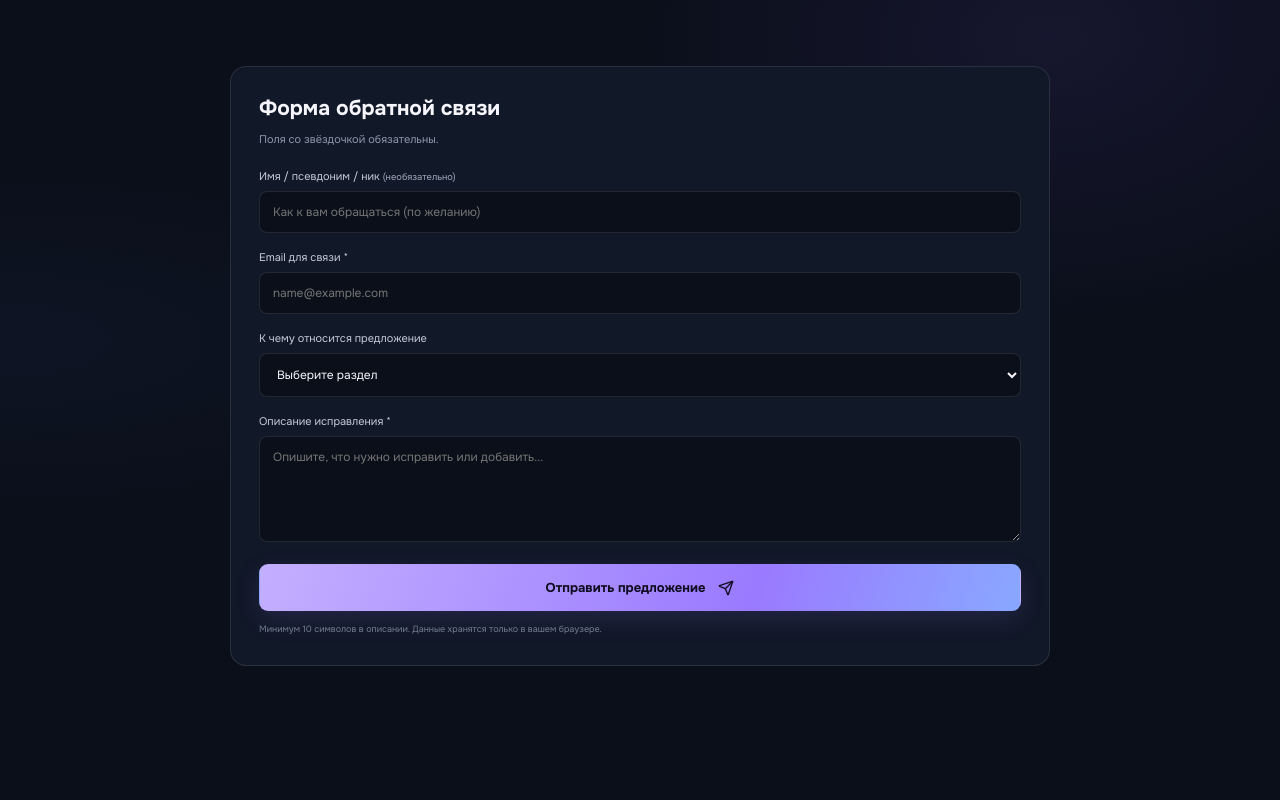
Scenario: CorrectionsPage › submits a valid correction and shows confirmation
Type "anna@example.com" into the field labelled "Email для связи *" at (640,293), box [259,272,1021,314]
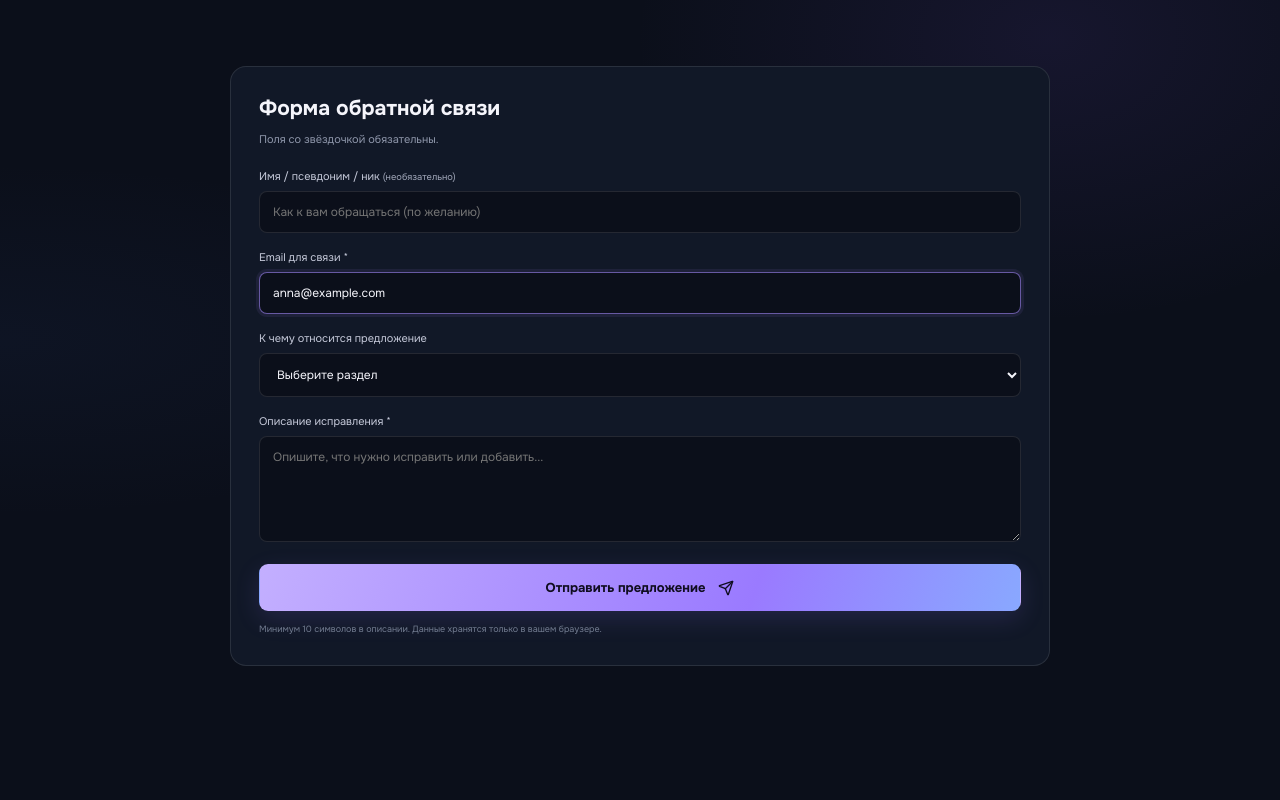
Select "Профиль айдола" in the dropdown labelled "К чему относится предложение" at (640,375), box [259,353,1021,397]
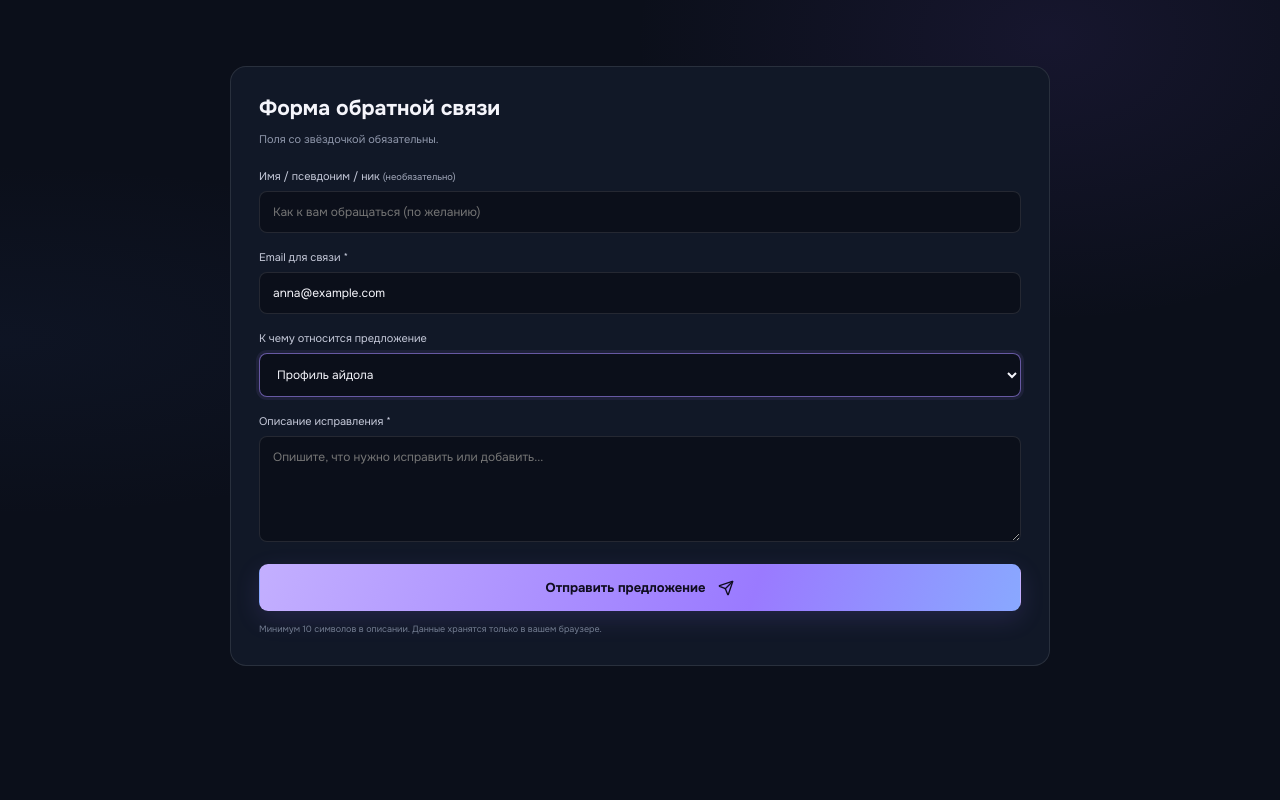
Type "Please correct the debut date in this artist profile." into the text box labelled "Описание исправления *" at (640,489), box [259,436,1021,542]
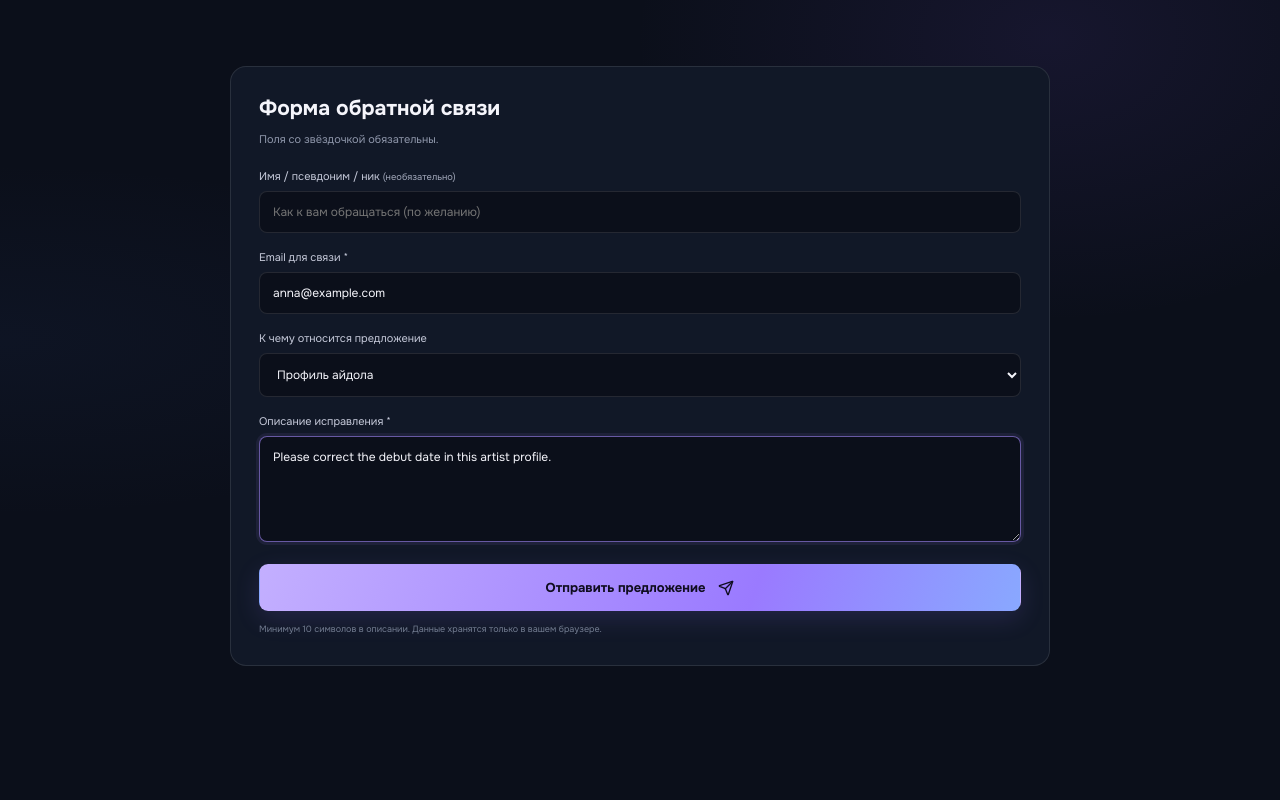
Click the button "Отправить предложение" at (640,588), box [259,564,1021,611]
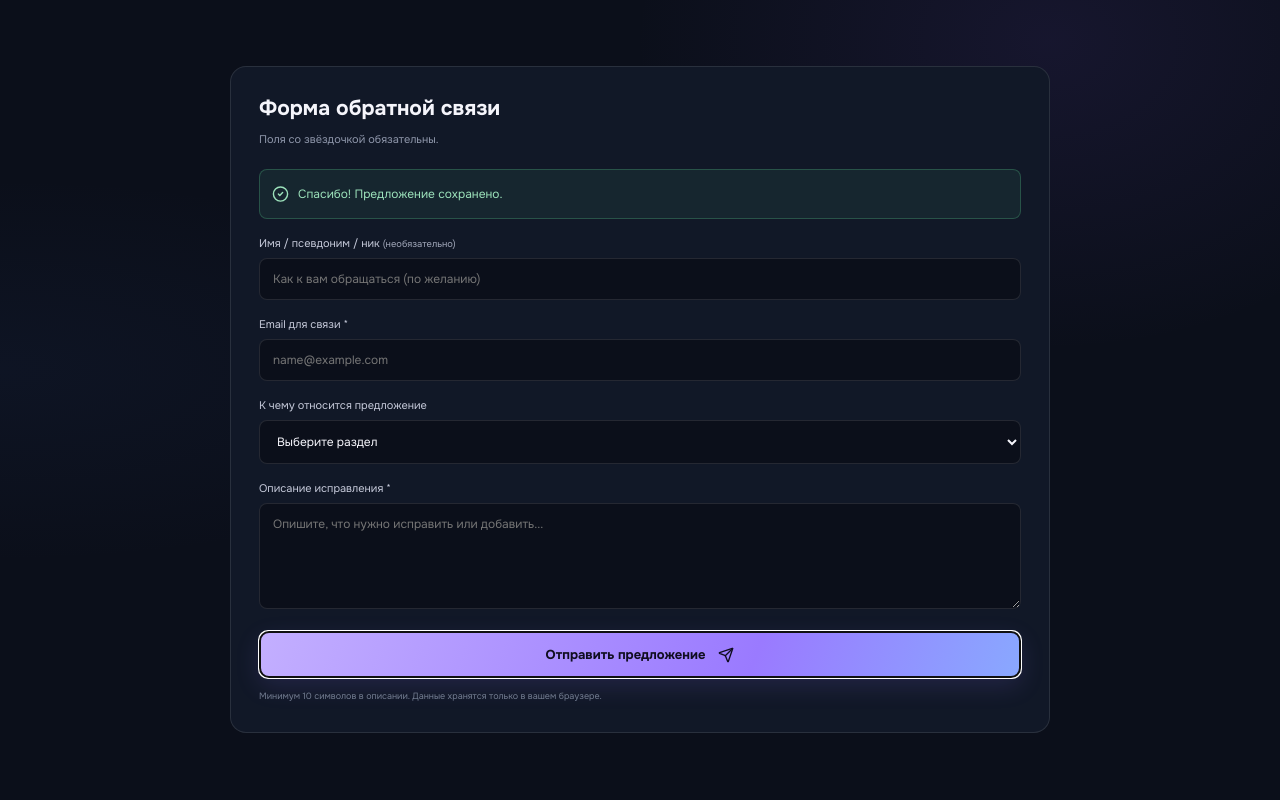
Check: the message shows "Предложение сохранено", box [298,186,502,202]
